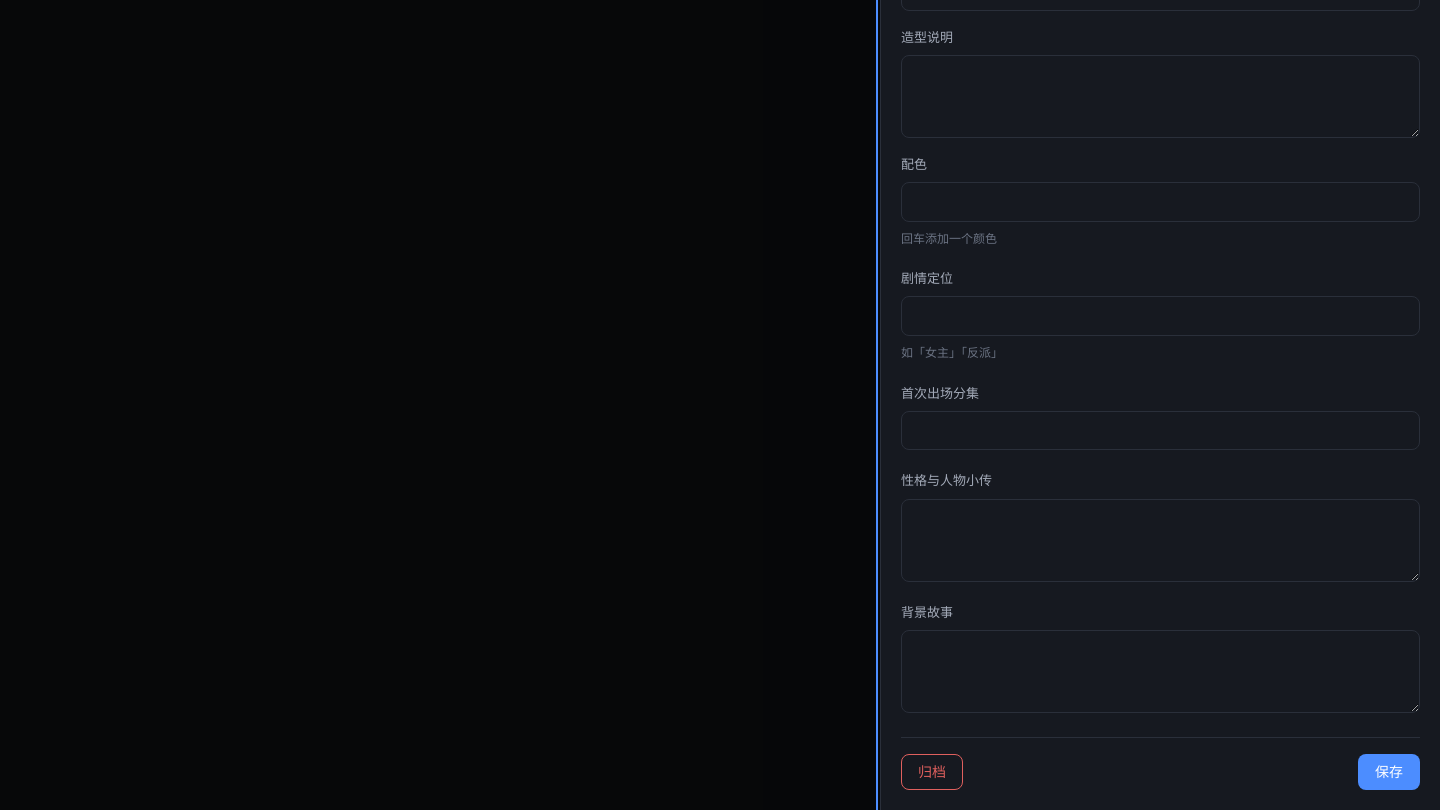
Test: AssetDetailDrawer 的归档 › 被引用时把后端的拒绝理由原样显示，且不关闭抽屉
(page scrolled)
Click the button "归档": (932, 772) [901,754,963,790]
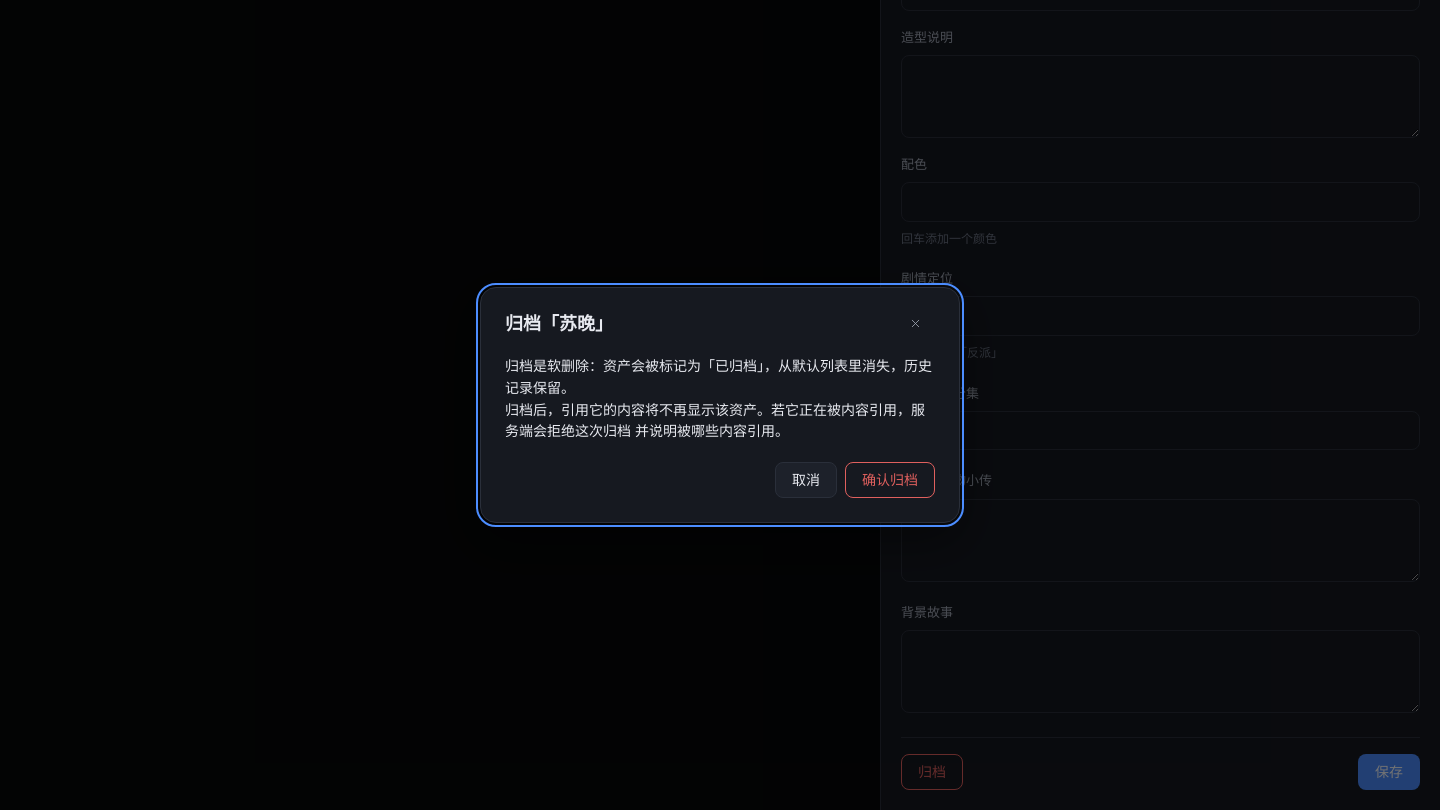
Click the button "确认归档": (890, 480) [845,462,935,498]
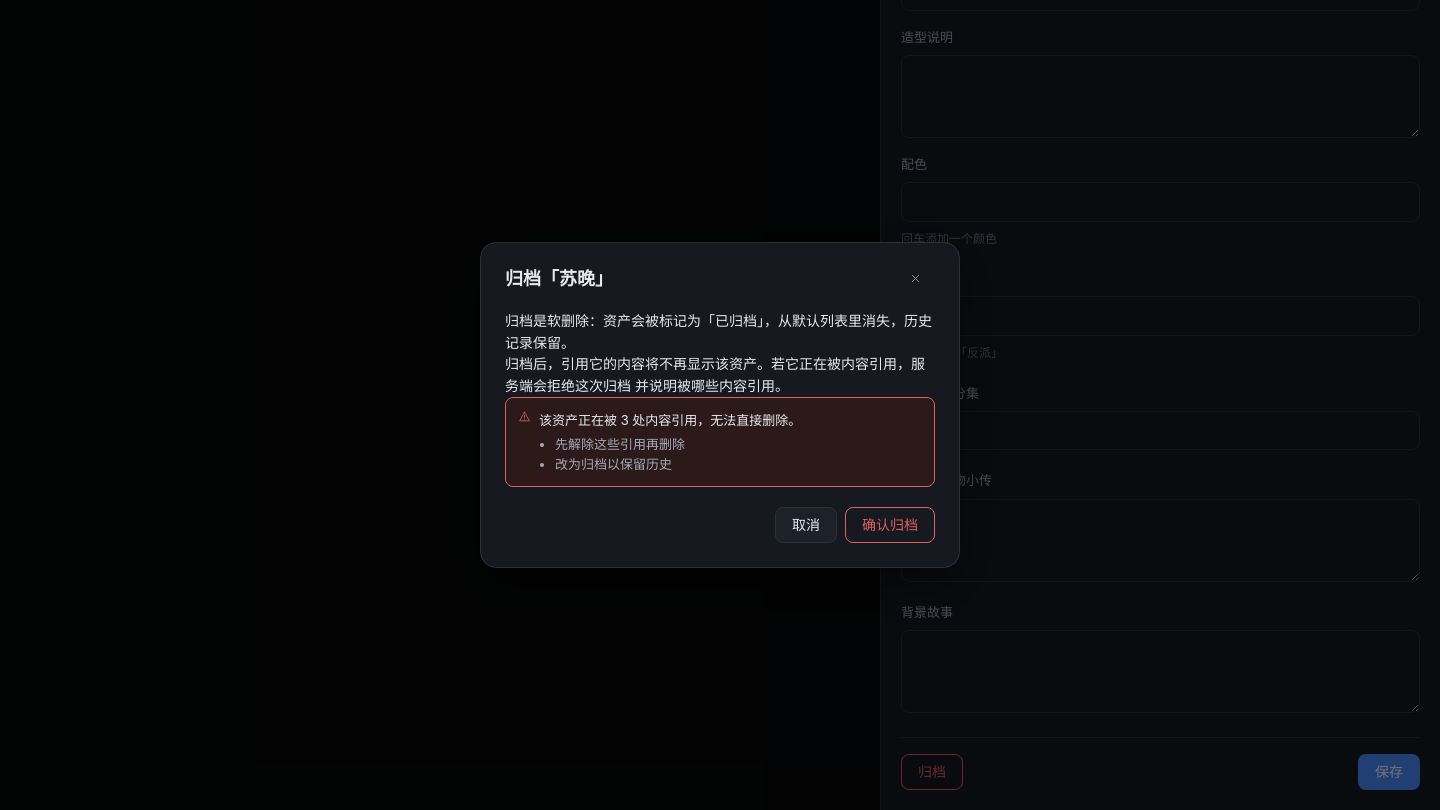
Expected: the text "该资产正在被 3 处内容引用，无法直接删除。" is shown, [539,410,801,430]
Expected: the list item "先解除这些引用再删除" is shown, [555,436,685,452]
